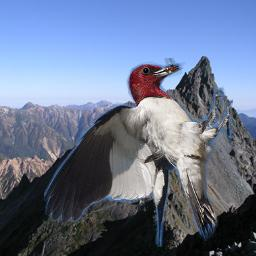Woodpecker: (44, 58, 233, 247)
